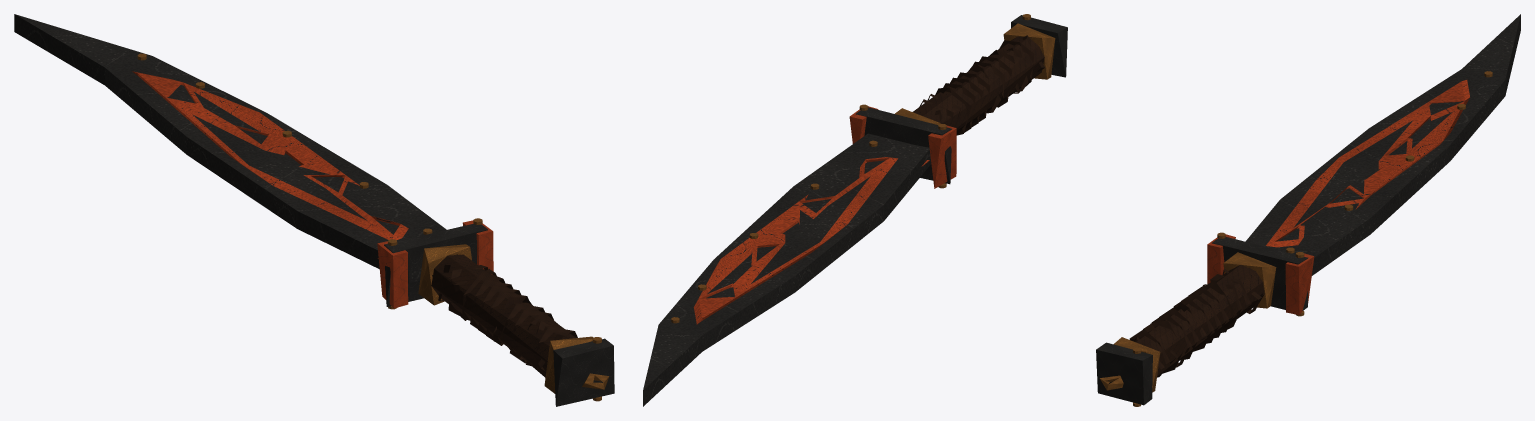
The model's file is kiln-sword-ready-lod2.glb.
The picture shows the model from 3 angles, left to right: view 1: azimuth 30°, elevation 25°; view 2: azimuth 150°, elevation 25°; view 3: azimuth 330°, elevation 25°; orthographic projection. The views are drawn at different scales.
Parts seen in each view (by area): view 1: Forged wedge blade, Vented fired ceramic blade jacket, Grip core, Pommel iron cap, Guard iron block, Ceramic guard cheek, Brass grip ferrule.001, Ceramic guard cheek.001, Brass grip ferrule; view 2: Forged wedge blade, Vented fired ceramic blade jacket, Grip core, Guard iron block, Ceramic guard cheek, Pommel iron cap, Brass grip ferrule, Ceramic guard cheek.001; view 3: Forged wedge blade, Vented fired ceramic blade jacket, Grip core, Pommel iron cap, Guard iron block, Ceramic guard cheek.001, Brass grip ferrule.001, Ceramic guard cheek, Brass grip ferrule.
Part boxes in pixels (x1,y1,x2,y2): Forged wedge blade: (14,14,446,283); Vented fired ceramic blade jacket: (132,71,408,258); Grip core: (431,254,576,374); Pommel iron cap: (553,338,614,406); Guard iron block: (384,223,487,306); Ceramic guard cheek: (377,241,408,308); Brass grip ferrule.001: (418,244,471,305); Ceramic guard cheek.001: (462,220,493,274); Brass grip ferrule: (544,336,593,393); Forged wedge blade: (643,133,931,406); Vented fired ceramic blade jacket: (693,157,929,324); Grip core: (912,36,1044,134); Guard iron block: (856,107,951,184); Ceramic guard cheek: (928,125,956,188); Pommel iron cap: (1011,15,1067,77); Brass grip ferrule: (1003,23,1055,79); Ceramic guard cheek.001: (849,106,878,143); Forged wedge blade: (1245,14,1520,275); Vented fired ceramic blade jacket: (1266,80,1469,247); Grip core: (1133,265,1264,376); Pommel iron cap: (1096,342,1152,405); Guard iron block: (1212,237,1307,310); Ceramic guard cheek.001: (1285,253,1314,315); Brass grip ferrule.001: (1223,252,1276,308); Ceramic guard cheek: (1207,234,1235,283); Brass grip ferrule: (1113,337,1160,392).
Size of the model in its own units: 0.173 by 0.092 by 1.31.
4 materials, 4 textured.
